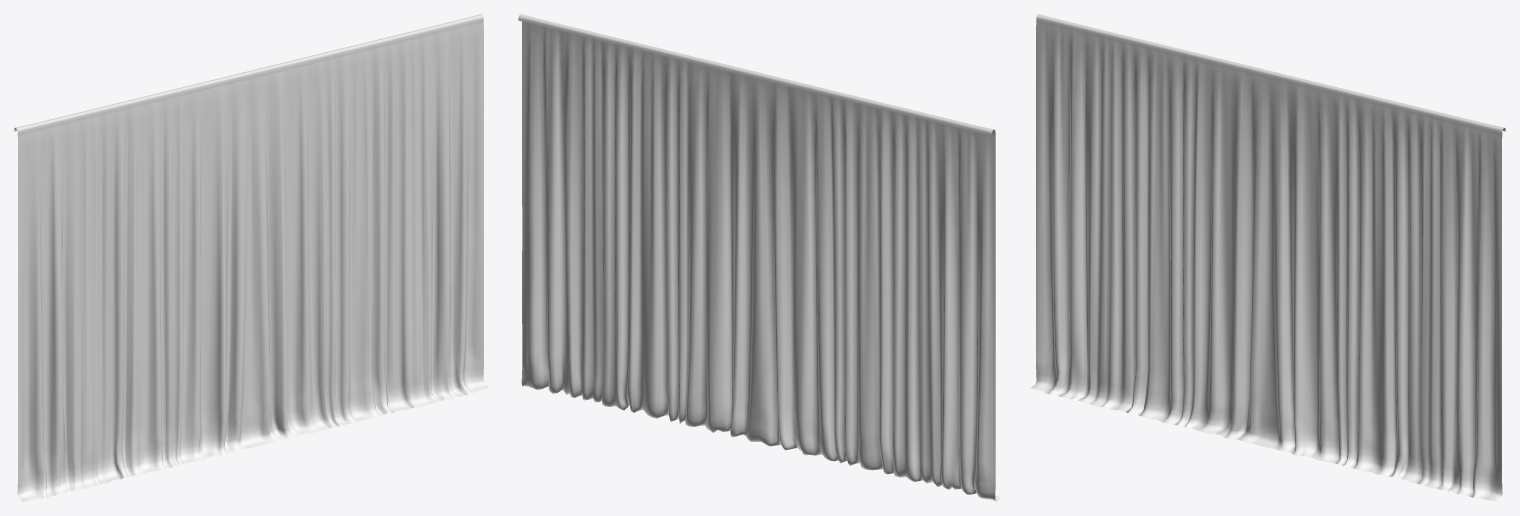
File: PartyBackdrop01_4.FBX
3 views of the same model, side by side, from view 1: azimuth 30°, elevation 25°; view 2: azimuth 150°, elevation 25°; view 3: azimuth 330°, elevation 25° (orthographic).
Visible parts, largest first — view 1: PartyBackdrop01_4; view 2: PartyBackdrop01_4; view 3: PartyBackdrop01_4.
Boxes of the visible parts, bbox=[...] form: PartyBackdrop01_4: bbox=[14, 14, 489, 501]; PartyBackdrop01_4: bbox=[518, 14, 1001, 501]; PartyBackdrop01_4: bbox=[1030, 14, 1505, 501].
Size of what is drawn, in the model's own units: 4.5 by 3.41 by 0.1963.
